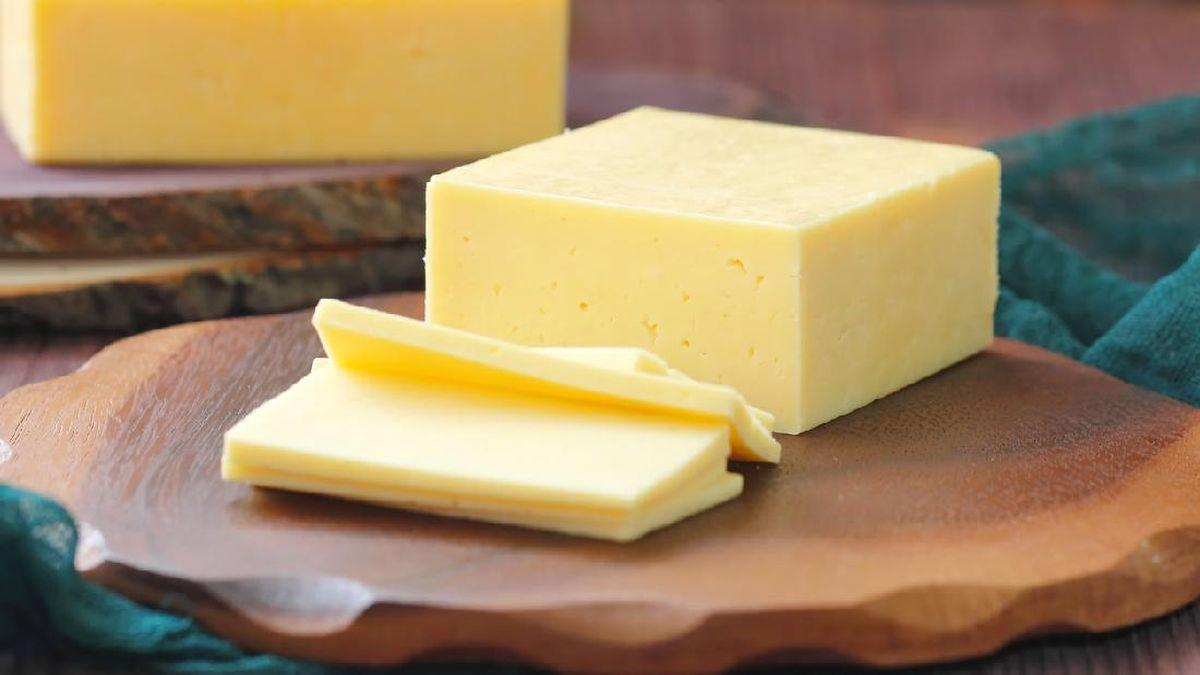produk_susu: (492, 162, 977, 319), (313, 369, 689, 485)
